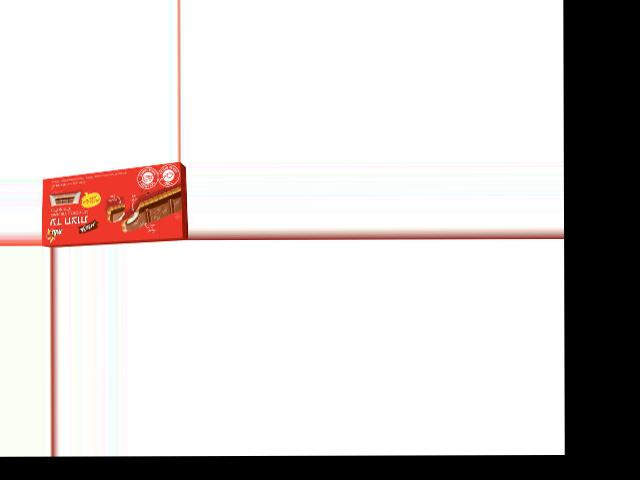chocolate: (40, 170, 186, 241)
